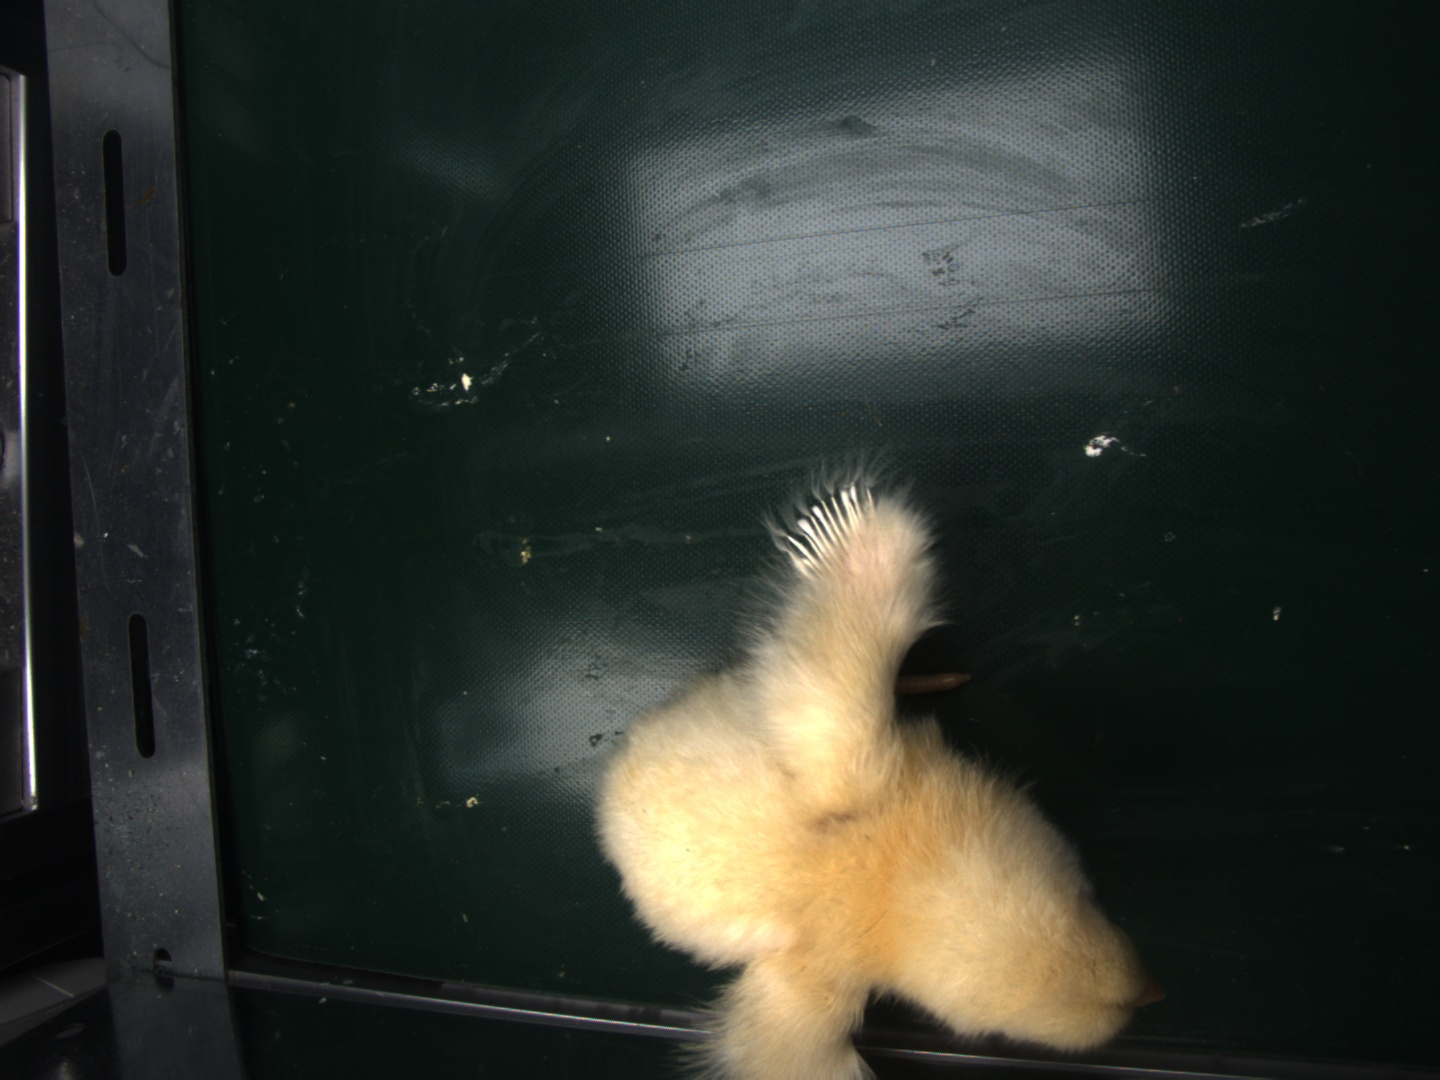male: (793, 491, 875, 575)
